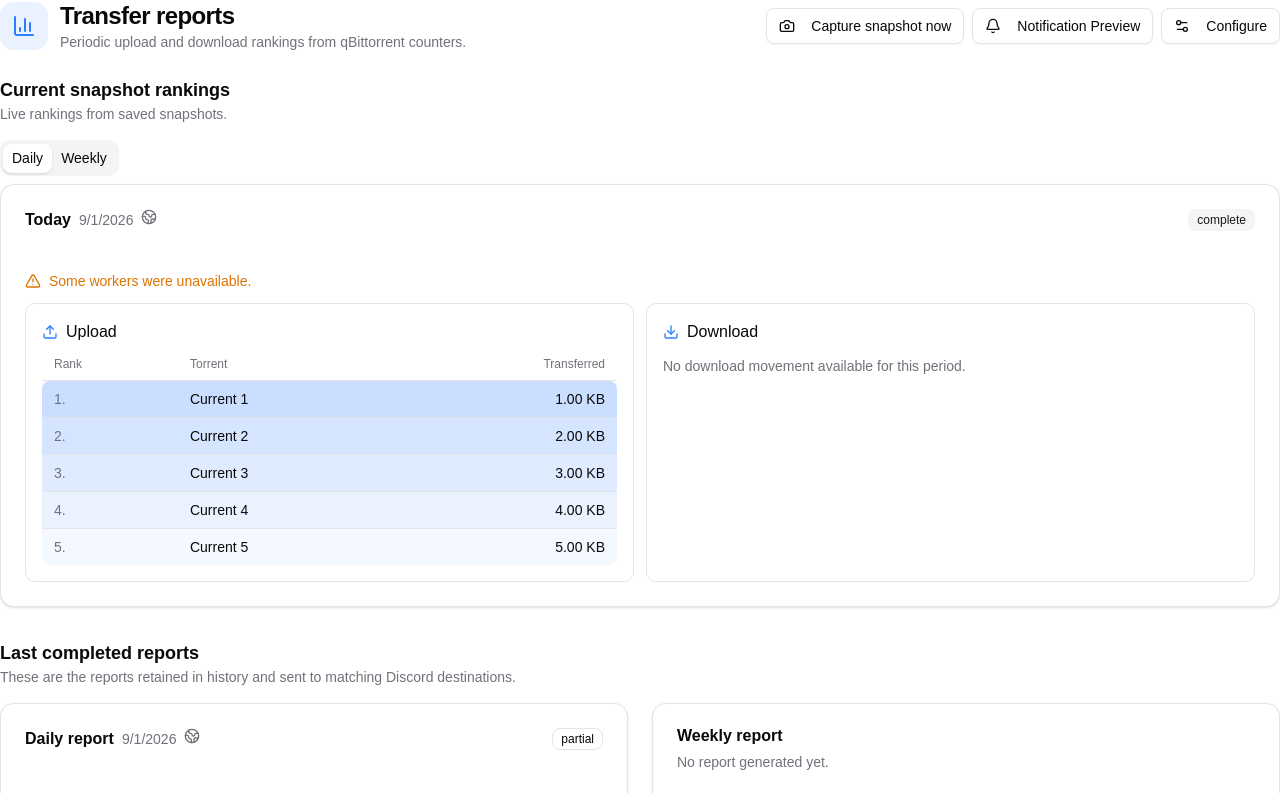
Scenario: ReportsPage › shows current rankings without requiring Discord
The width and height of the screenshot is (1280, 793).
Expected: the heading "Current snapshot rankings" is shown, [0,80,230,100]
Expected: the tab "Weekly" is shown, [52,144,116,172]
Step 1. Click the button "Notification Preview" → (1063,26), box [972,8,1153,44]
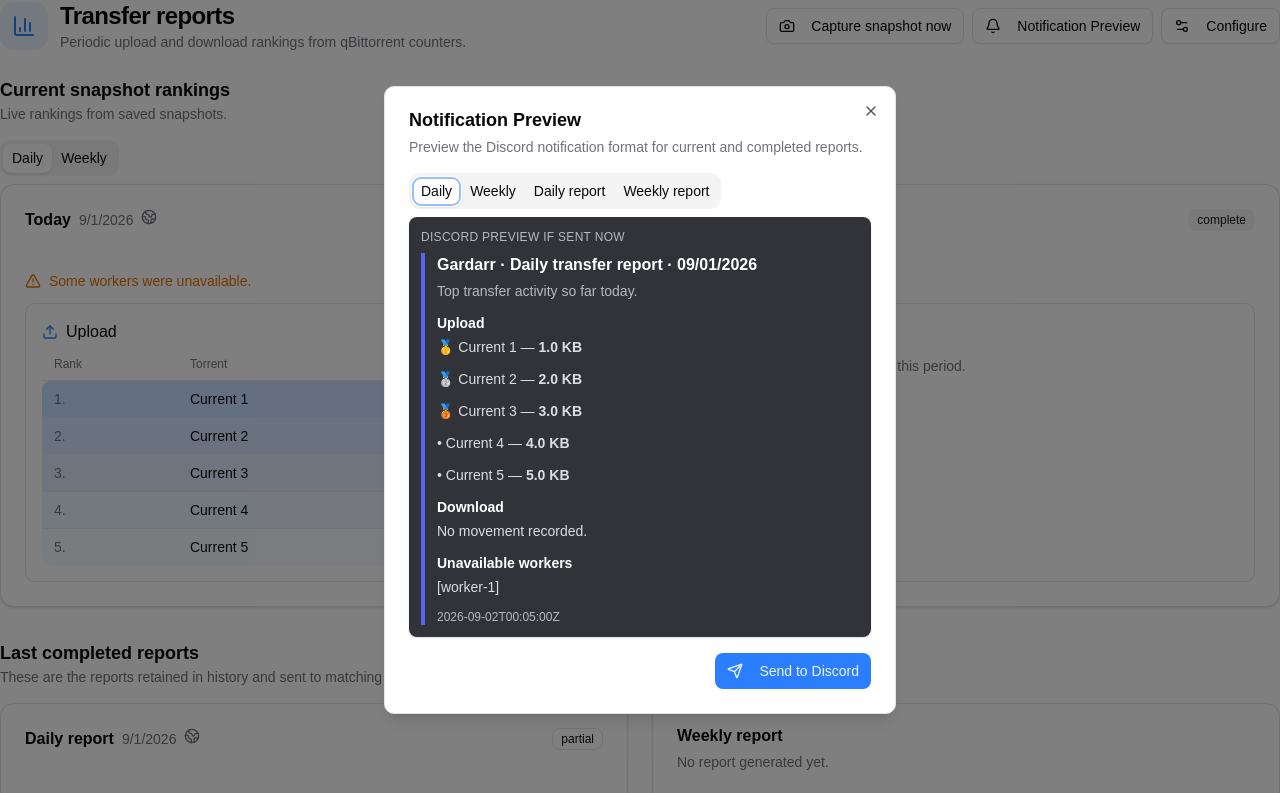
Result: the element with test id "discord-preview-current-daily" shows "Top transfer activity so far today." at [437,283,638,299]
Result: the element with test id "discord-preview-current-daily" shows "🥇 Current 1 — 1.0 KB" at [409,217,871,637]
